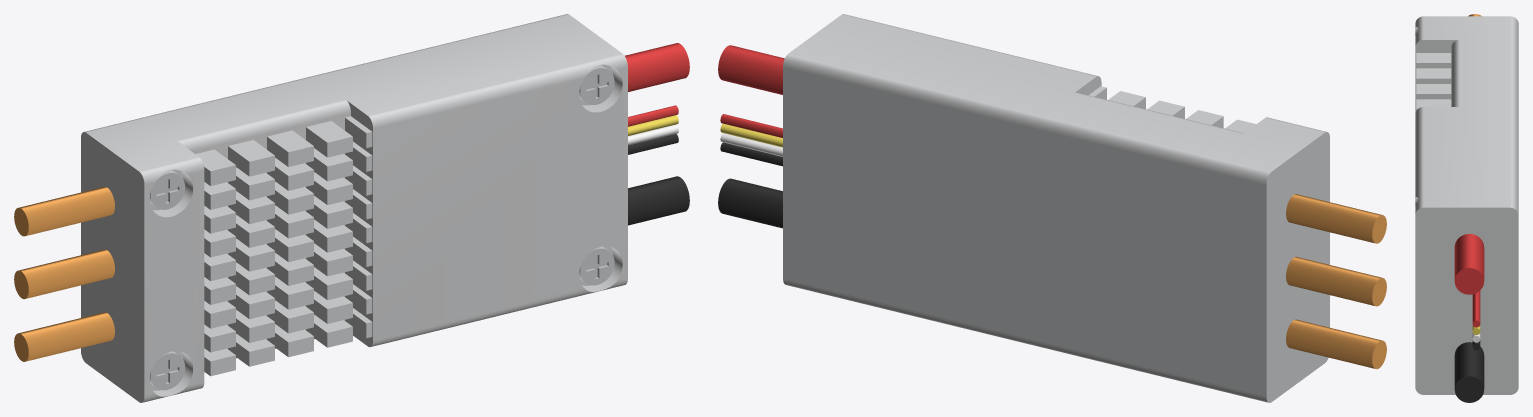
The model's file is esc_lift.glb.
The picture shows the model from 3 angles, left to right: view 1: azimuth 30°, elevation 25°; view 2: azimuth 150°, elevation 25°; view 3: azimuth 270°, elevation 25°; orthographic projection. The views are drawn at different scales.
Visible parts, largest first — view 1: alu, c_f26b19, steel, wire_red, wire_black; view 2: alu, c_f26b19, wire_red, wire_black, c_eaeaea, wire_yellow; view 3: alu, wire_red, wire_black.
Boxes of the visible parts, <box> form: alu: <box>81,14,627,402</box>; c_f26b19: <box>14,186,114,361</box>; steel: <box>149,65,614,390</box>; wire_red: <box>625,43,689,126</box>; wire_black: <box>628,134,689,225</box>; alu: <box>783,14,1329,402</box>; c_f26b19: <box>1286,194,1386,369</box>; wire_red: <box>718,45,784,137</box>; wire_black: <box>718,142,782,228</box>; c_eaeaea: <box>720,133,782,156</box>; wire_yellow: <box>720,123,782,147</box>; alu: <box>1415,16,1518,394</box>; wire_red: <box>1454,234,1484,327</box>; wire_black: <box>1454,340,1484,402</box>.
Size of the model in its own units: 0.0875 by 0.0294 by 0.0147.
